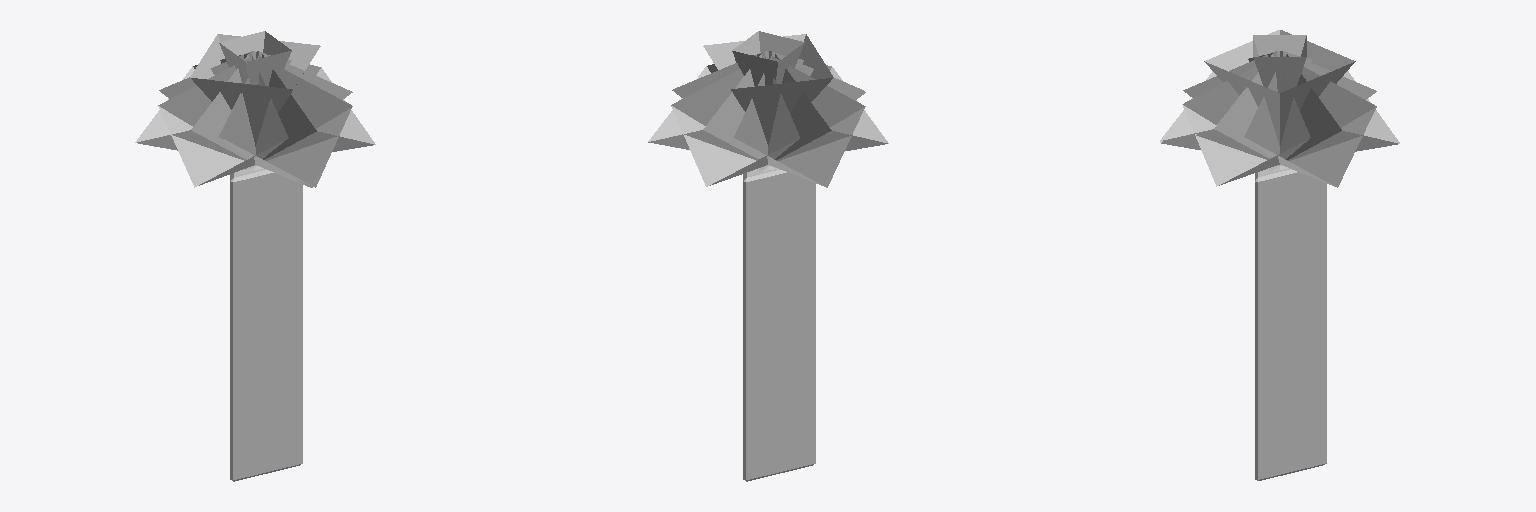
File: triangle_spikes.obj
3 views of the same model, side by side, from view 1: azimuth 30°, elevation 25°; view 2: azimuth 150°, elevation 25°; view 3: azimuth 270°, elevation 25° (orthographic).
Parts seen in each view (by area): view 1: Triangle.002; view 2: Triangle.002; view 3: Triangle.002.
Boxes of the visible parts, <box> form: Triangle.002: <box>135,31,375,481</box>; Triangle.002: <box>648,31,888,481</box>; Triangle.002: <box>1160,30,1399,480</box>.
Size of the model in its own units: 0.629 by 1.38 by 0.7203.